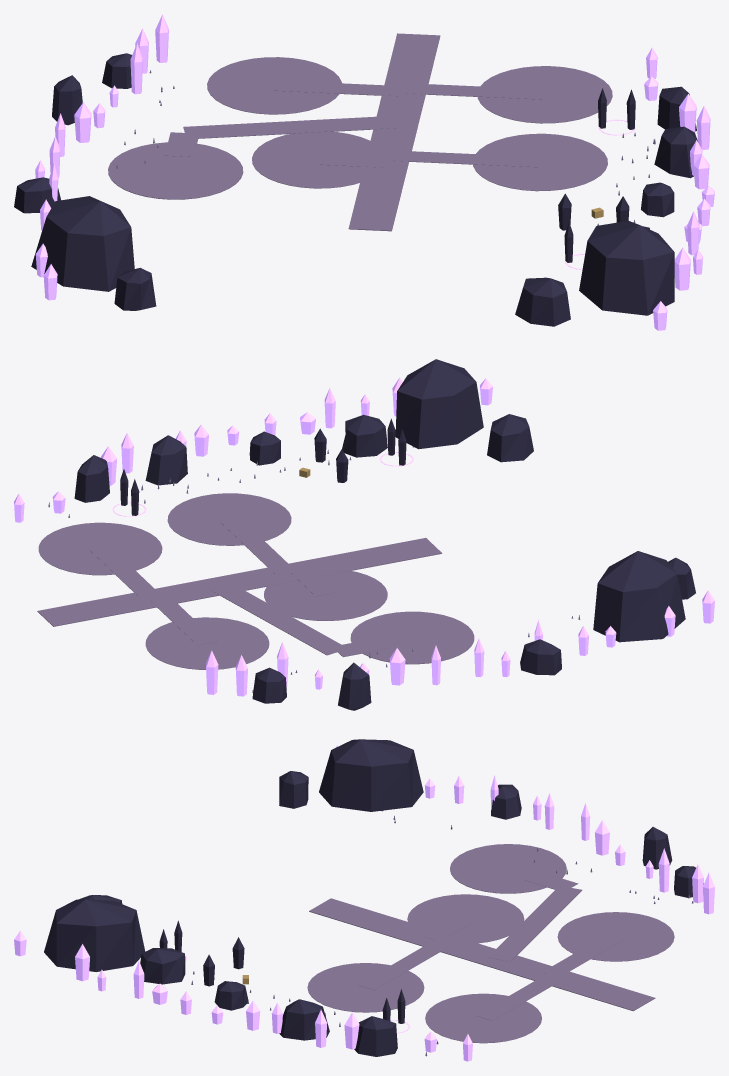
The model's file is Grounds_VoidRift.glb.
3 views of the same model, one above another, from view 1: azimuth 30°, elevation 25°; view 2: azimuth 150°, elevation 25°; view 3: azimuth 270°, elevation 25° (orthographic). The views are drawn at different scales.
Parts seen in each view (by area): view 1: Grounds_VoidRift_VoidRift_path_-3_-3, Grounds_VoidRift_VoidRift_path_-3_-4, Grounds_VoidRift_VoidRift_dark_-3_-5, Grounds_VoidRift_VoidRift_path_-2_-3, Grounds_VoidRift_VoidRift_dark_-4_-4, Grounds_VoidRift_VoidRift_path_-4_-3, Grounds_VoidRift_VoidRift_path_-2_-4, Grounds_VoidRift_VoidRift_dark_-2_-4, Grounds_VoidRift_VoidRift_accent_-2_-4, Grounds_VoidRift_VoidRift_dark_-4_-3, Grounds_VoidRift_VoidRift_accent_-4_-3, Grounds_VoidRift_VoidRift_accent_-2_-5 (+4 smaller); view 2: Grounds_VoidRift_VoidRift_path_-3_-3, Grounds_VoidRift_VoidRift_dark_-3_-5, Grounds_VoidRift_VoidRift_path_-3_-4, Grounds_VoidRift_VoidRift_path_-2_-3, Grounds_VoidRift_VoidRift_dark_-4_-4, Grounds_VoidRift_VoidRift_path_-4_-3, Grounds_VoidRift_VoidRift_path_-2_-4, Grounds_VoidRift_VoidRift_dark_-2_-4, Grounds_VoidRift_VoidRift_dark_-2_-5, Grounds_VoidRift_VoidRift_dark_-4_-3, Grounds_VoidRift_VoidRift_accent_-2_-4, Grounds_VoidRift_VoidRift_accent_-4_-3 (+4 smaller); view 3: Grounds_VoidRift_VoidRift_path_-3_-3, Grounds_VoidRift_VoidRift_path_-3_-4, Grounds_VoidRift_VoidRift_dark_-4_-4, Grounds_VoidRift_VoidRift_path_-2_-3, Grounds_VoidRift_VoidRift_dark_-3_-5, Grounds_VoidRift_VoidRift_path_-4_-3, Grounds_VoidRift_VoidRift_path_-2_-4, Grounds_VoidRift_VoidRift_dark_-2_-4, Grounds_VoidRift_VoidRift_dark_-2_-5, Grounds_VoidRift_VoidRift_accent_-2_-4, Grounds_VoidRift_VoidRift_dark_-4_-3, Grounds_VoidRift_VoidRift_accent_-2_-5 (+3 smaller).
Part boxes in pixels (bbox=[...]): Grounds_VoidRift_VoidRift_path_-3_-3: bbox=[164, 57, 424, 164]; Grounds_VoidRift_VoidRift_path_-3_-4: bbox=[252, 131, 541, 231]; Grounds_VoidRift_VoidRift_dark_-3_-5: bbox=[515, 193, 674, 326]; Grounds_VoidRift_VoidRift_path_-2_-3: bbox=[384, 33, 612, 123]; Grounds_VoidRift_VoidRift_dark_-4_-4: bbox=[31, 196, 156, 310]; Grounds_VoidRift_VoidRift_path_-4_-3: bbox=[108, 142, 243, 199]; Grounds_VoidRift_VoidRift_path_-2_-4: bbox=[473, 133, 607, 191]; Grounds_VoidRift_VoidRift_dark_-2_-4: bbox=[598, 86, 697, 178]; Grounds_VoidRift_VoidRift_accent_-2_-4: bbox=[598, 47, 710, 189]; Grounds_VoidRift_VoidRift_dark_-4_-3: bbox=[14, 75, 82, 213]; Grounds_VoidRift_VoidRift_accent_-4_-3: bbox=[35, 102, 105, 201]; Grounds_VoidRift_VoidRift_accent_-2_-5: bbox=[674, 185, 714, 290]; Grounds_VoidRift_VoidRift_path_-3_-3: bbox=[145, 562, 389, 669]; Grounds_VoidRift_VoidRift_dark_-3_-5: bbox=[336, 359, 533, 482]; Grounds_VoidRift_VoidRift_path_-3_-4: bbox=[219, 517, 442, 620]; Grounds_VoidRift_VoidRift_path_-2_-3: bbox=[37, 522, 168, 626]; Grounds_VoidRift_VoidRift_dark_-4_-4: bbox=[593, 551, 695, 642]; Grounds_VoidRift_VoidRift_path_-4_-3: bbox=[350, 611, 474, 664]; Grounds_VoidRift_VoidRift_path_-2_-4: bbox=[167, 493, 291, 545]; Grounds_VoidRift_VoidRift_dark_-2_-4: bbox=[74, 435, 187, 515]; Grounds_VoidRift_VoidRift_dark_-2_-5: bbox=[249, 414, 387, 465]; Grounds_VoidRift_VoidRift_dark_-4_-3: bbox=[338, 639, 561, 710]; Grounds_VoidRift_VoidRift_accent_-2_-4: bbox=[14, 424, 208, 522]; Grounds_VoidRift_VoidRift_accent_-4_-3: bbox=[360, 620, 542, 685]; Grounds_VoidRift_VoidRift_path_-3_-3: bbox=[419, 871, 674, 979]; Grounds_VoidRift_VoidRift_path_-3_-4: bbox=[309, 894, 524, 990]; Grounds_VoidRift_VoidRift_dark_-4_-4: bbox=[279, 739, 423, 811]; Grounds_VoidRift_VoidRift_path_-2_-3: bbox=[425, 971, 655, 1043]; Grounds_VoidRift_VoidRift_dark_-3_-5: bbox=[44, 895, 244, 971]; Grounds_VoidRift_VoidRift_path_-4_-3: bbox=[450, 844, 566, 893]; Grounds_VoidRift_VoidRift_path_-2_-4: bbox=[307, 963, 424, 1012]; Grounds_VoidRift_VoidRift_dark_-2_-4: bbox=[279, 989, 405, 1056]; Grounds_VoidRift_VoidRift_dark_-2_-5: bbox=[140, 948, 248, 1010]; Grounds_VoidRift_VoidRift_accent_-2_-4: bbox=[246, 1000, 472, 1061]; Grounds_VoidRift_VoidRift_dark_-4_-3: bbox=[491, 784, 672, 869]; Grounds_VoidRift_VoidRift_accent_-2_-5: bbox=[75, 944, 223, 1024].
Size of the model in its own units: 328 by 38.38 by 336.
